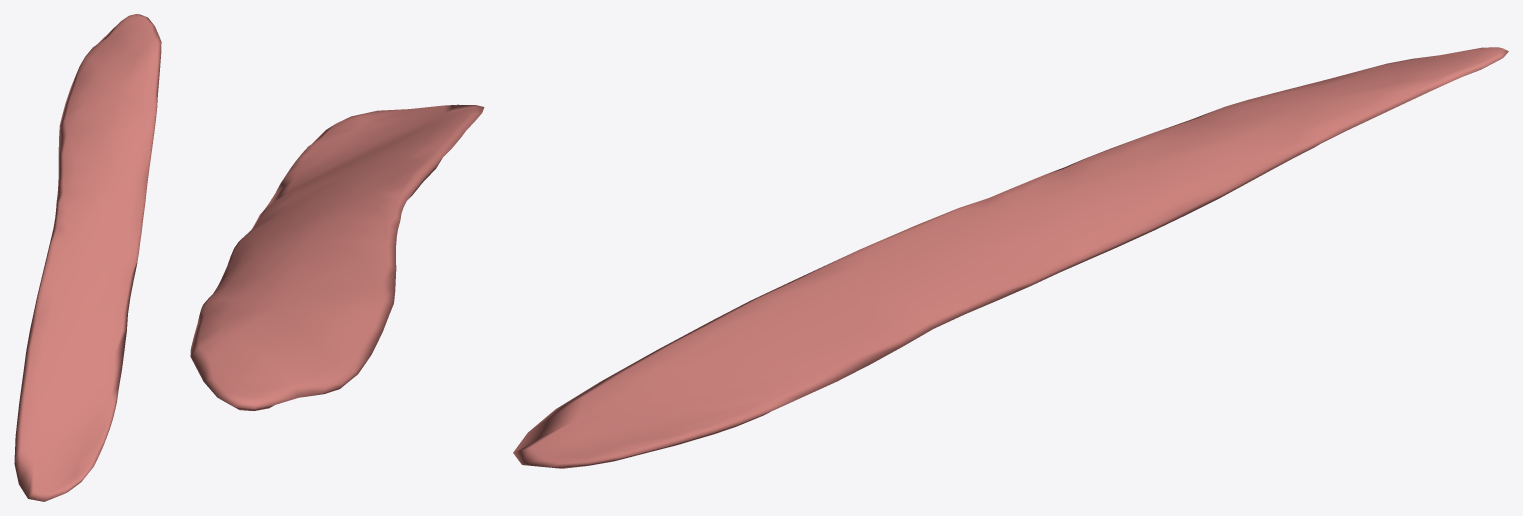
The picture shows the model from 3 angles, left to right: view 1: azimuth 30°, elevation 25°; view 2: azimuth 210°, elevation 25°; view 3: azimuth 330°, elevation 25°; orthographic projection. The views are drawn at different scales.
Parts seen in each view (by area): view 1: ZA_c8c2022e3200889a; view 2: ZA_c8c2022e3200889a; view 3: ZA_c8c2022e3200889a.
Boxes of the visible parts, box(x1,y1,x2,y2) form: ZA_c8c2022e3200889a: box(14, 14, 161, 501); ZA_c8c2022e3200889a: box(190, 104, 484, 410); ZA_c8c2022e3200889a: box(513, 47, 1508, 468).
Size of the model in its own units: 0.0325 by 0.0129 by 0.0416.
